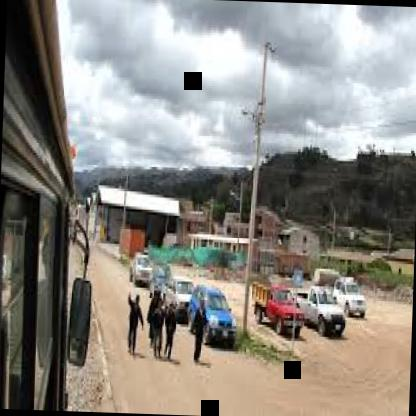car: (291, 280, 348, 353), (188, 276, 242, 352), (248, 272, 306, 340), (164, 272, 200, 319)
